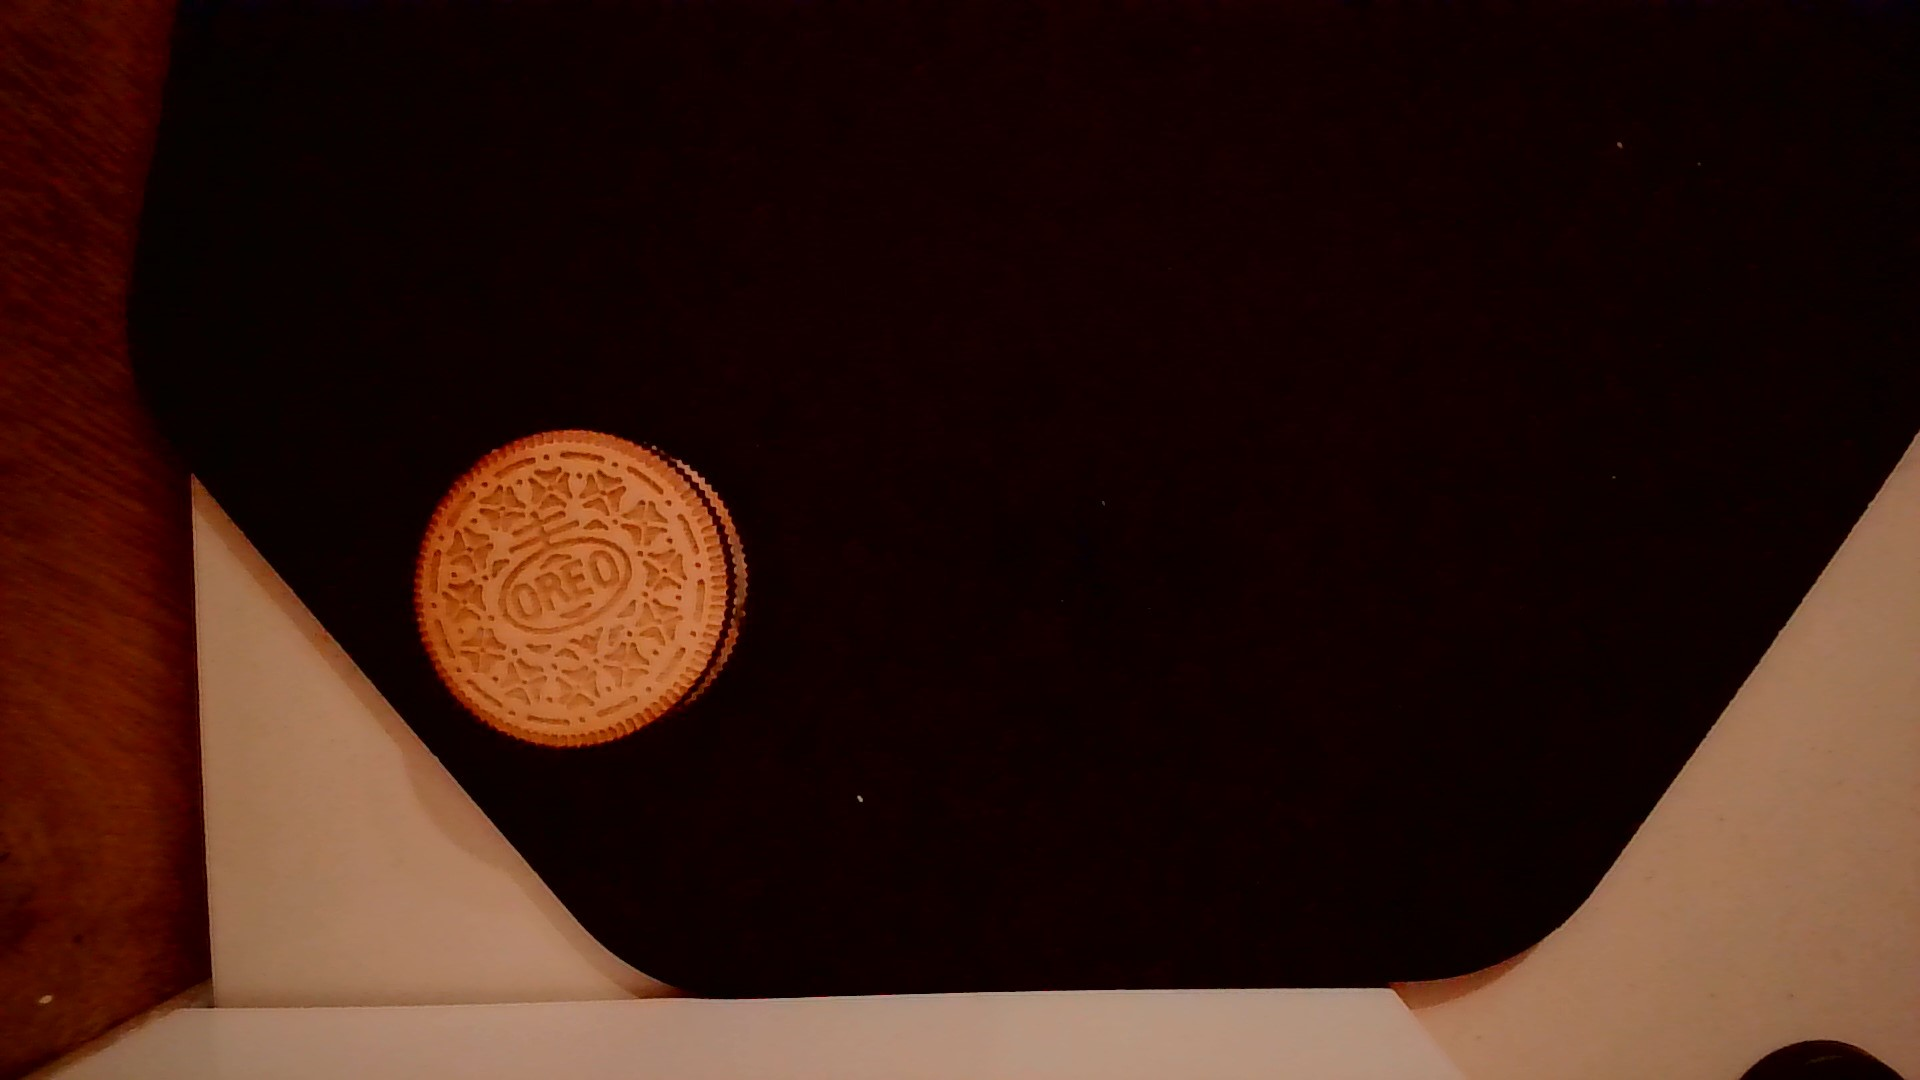Oréo: (404, 423, 757, 753)
